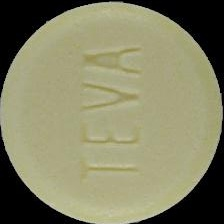0179-1429: (0, 0, 224, 224)
